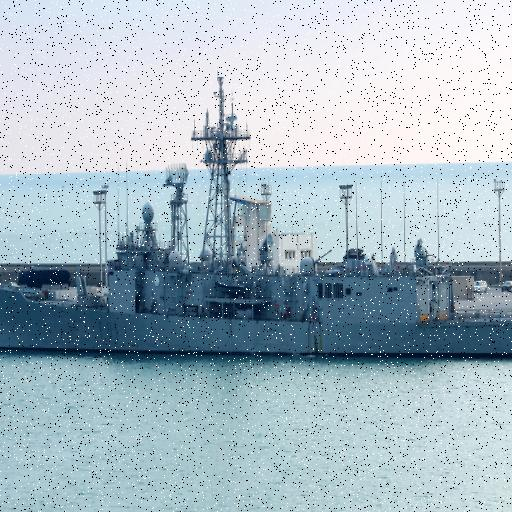Fragata: (1, 77, 512, 365)
